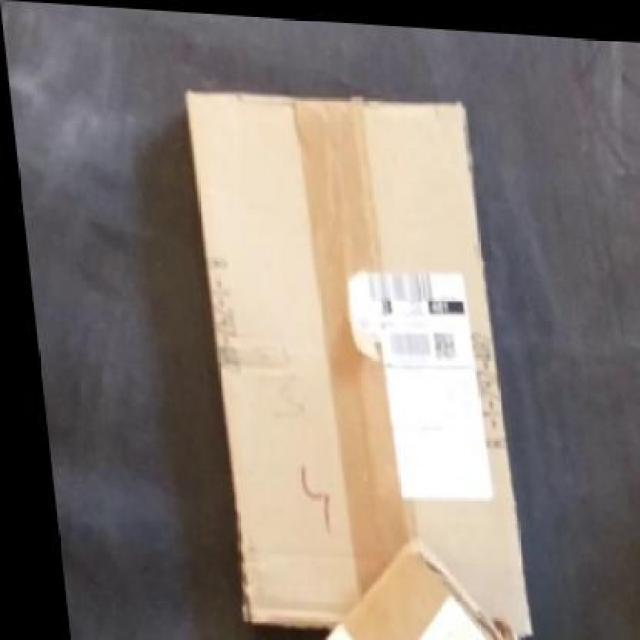box: (180, 80, 514, 634)
